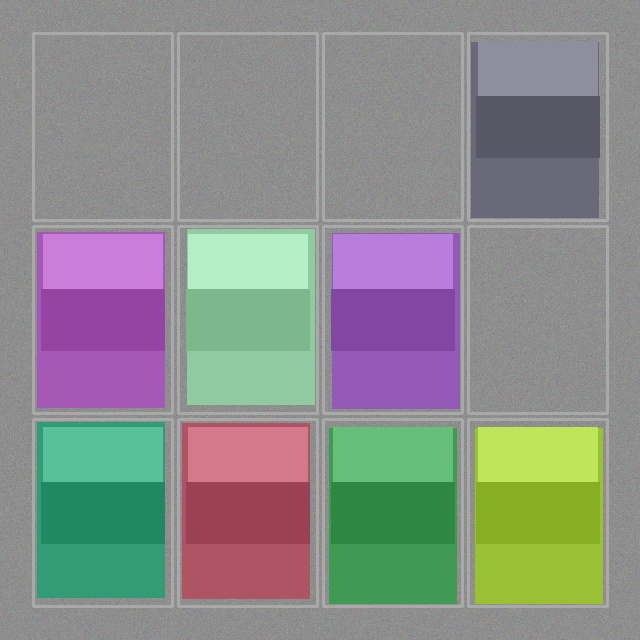space-empty: (35, 35, 170, 218), (180, 35, 315, 218), (325, 35, 460, 218), (470, 228, 605, 411)
space-occupied: (470, 35, 605, 218), (35, 228, 170, 411), (180, 228, 315, 411), (325, 228, 460, 411), (35, 421, 170, 604), (180, 421, 315, 604), (325, 421, 460, 604), (470, 421, 605, 604)
